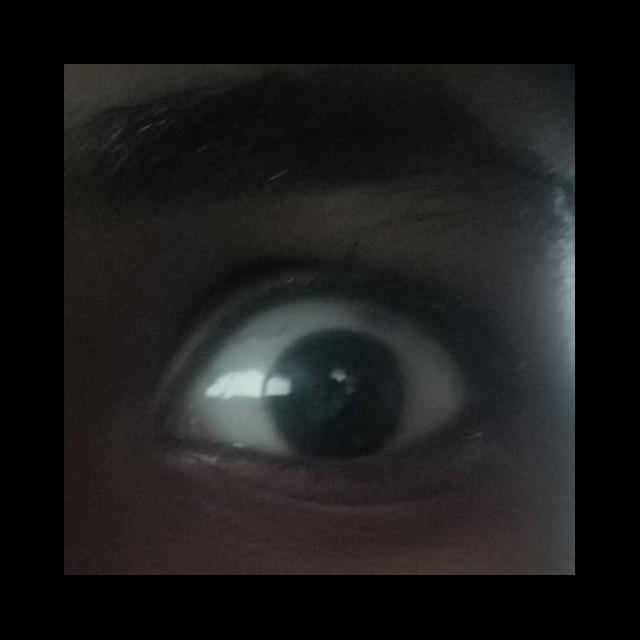eye: (177, 295, 477, 468)
iris: (262, 330, 407, 457)
